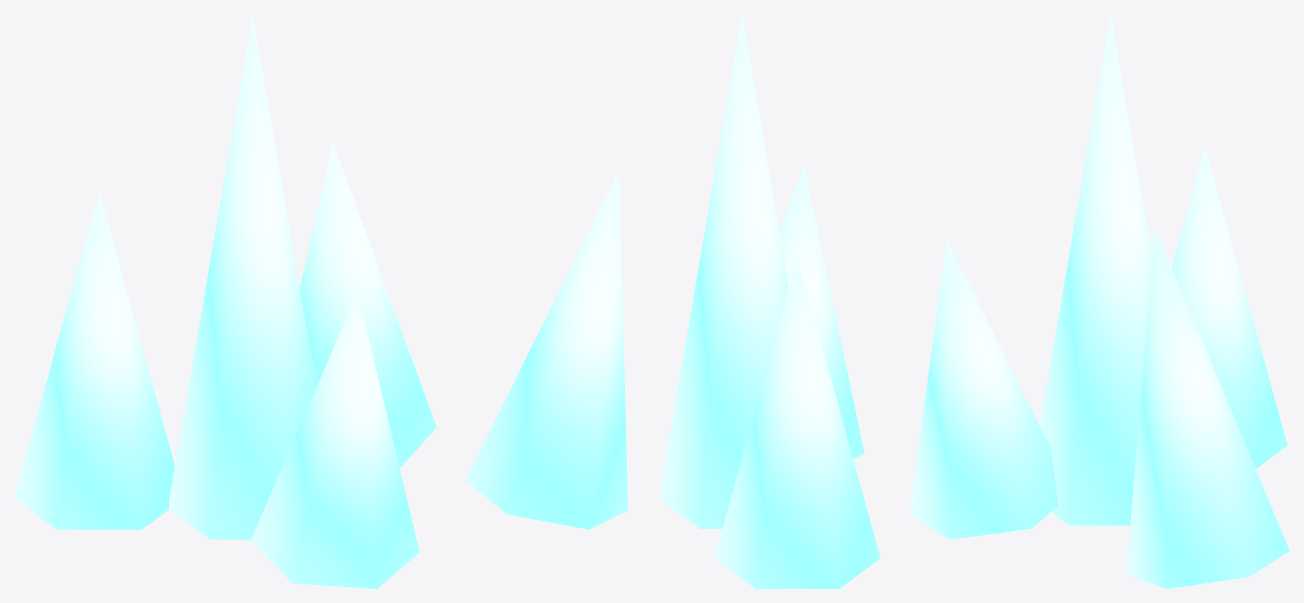
The model's file is crystal_find.glb.
The picture shows the model from 3 angles, left to right: view 1: azimuth 30°, elevation 25°; view 2: azimuth 150°, elevation 25°; view 3: azimuth 270°, elevation 25°; orthographic projection. The views are drawn at different scales.
Visible parts, largest first — view 1: crystal_find; view 2: crystal_find; view 3: crystal_find.
Part boxes in pixels (<box>): crystal_find: <box>14,15,436,588</box>; crystal_find: <box>465,15,880,588</box>; crystal_find: <box>909,15,1289,588</box>.
Bounding box in the file's own units: 0.3635 × 0.4609 × 0.3222.
